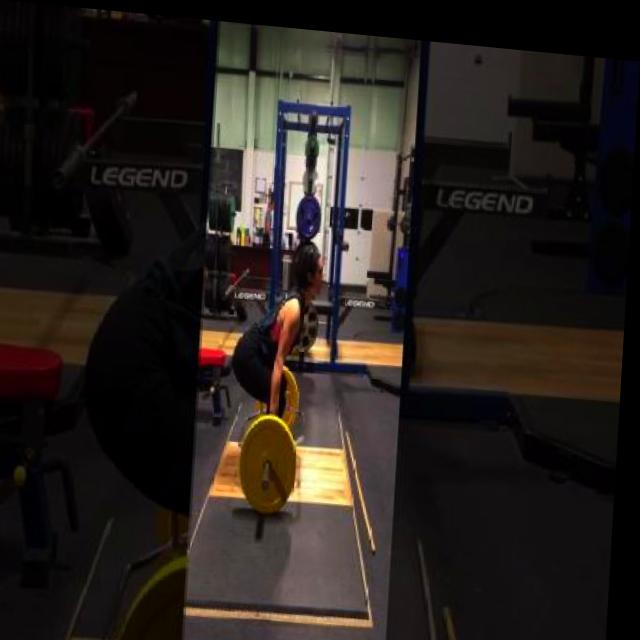barbell: (239, 406, 310, 519)
